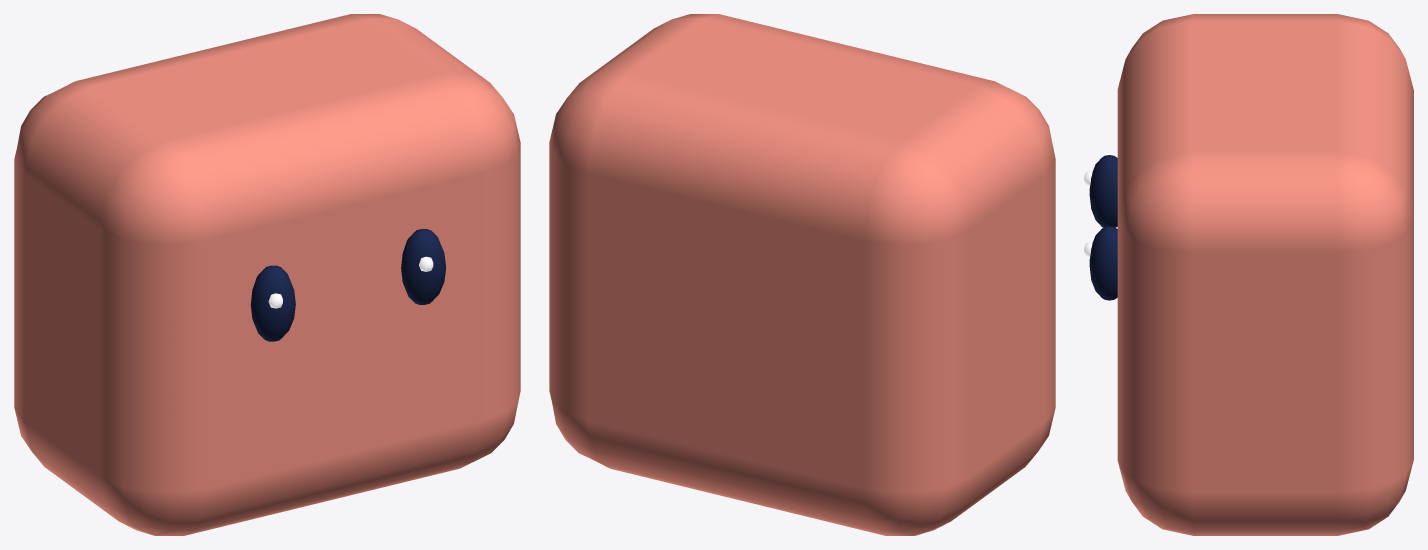
The model's file is beat.glb.
3 renders of one model, left to right at view 1: azimuth 30°, elevation 25°; view 2: azimuth 150°, elevation 25°; view 3: azimuth 270°, elevation 25°, orthographic. The views are drawn at different scales.
Parts seen in each view (by area): view 1: Body, Eyes; view 2: Body; view 3: Body, Eyes.
Part boxes in pixels (left/top/right/bottom): Body: left=14, top=14, right=520, bottom=535; Eyes: left=250, top=229, right=445, bottom=341; Body: left=549, top=14, right=1055, bottom=535; Body: left=1117, top=14, right=1413, bottom=535; Eyes: left=1084, top=155, right=1117, bottom=300.
Bounding box in the file's own units: 0.115 × 0.104 × 0.0823.
